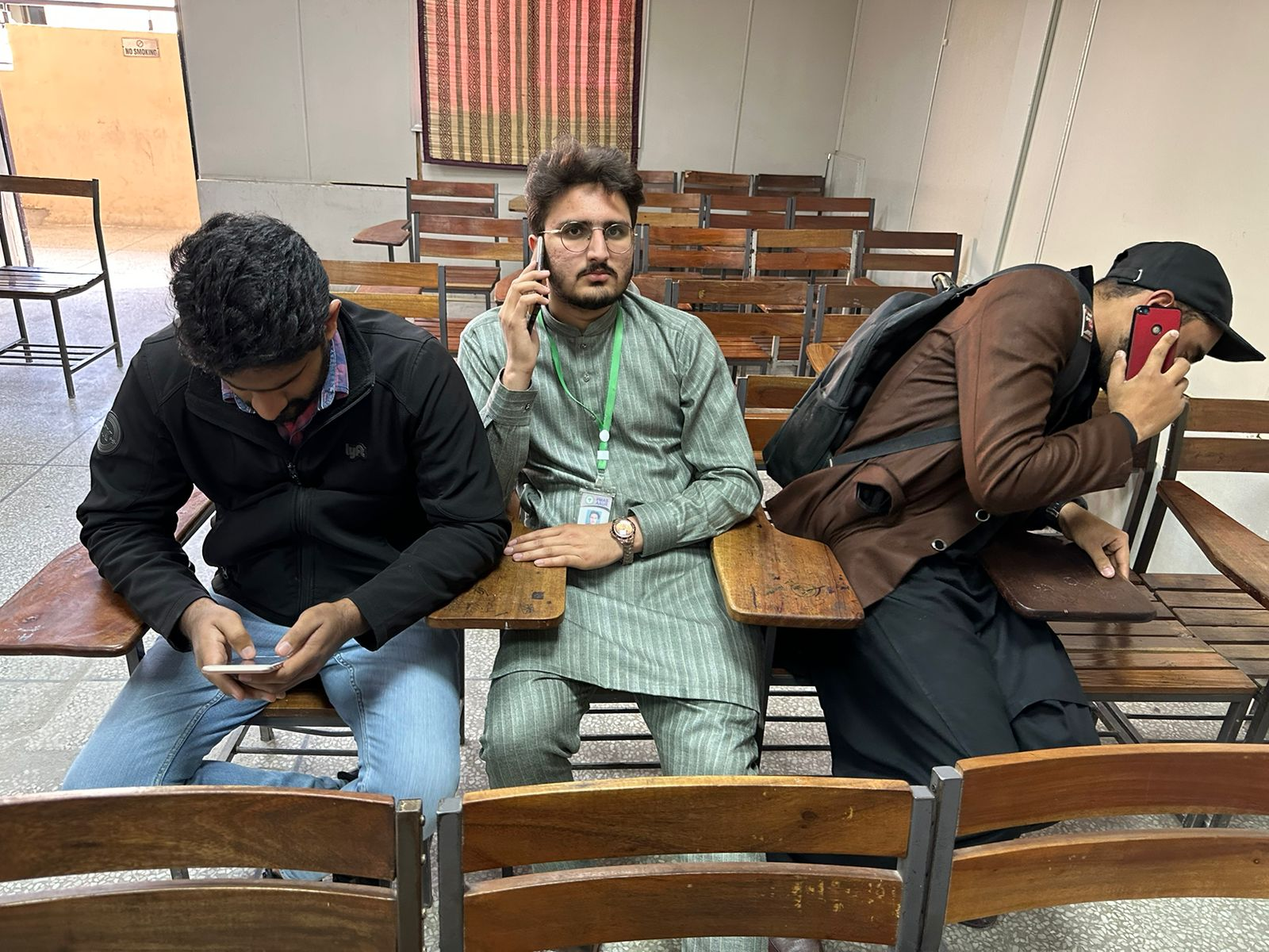phone: (199, 593, 342, 702), (1107, 289, 1193, 417), (498, 234, 550, 337)
